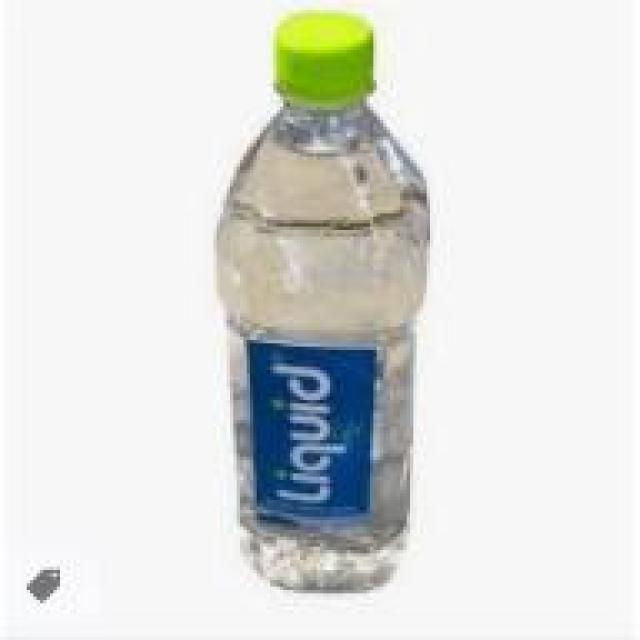bottle: (204, 5, 434, 615)
